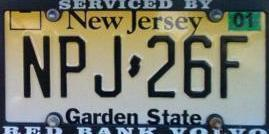placa de veiculo: (6, 7, 264, 128)
